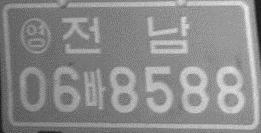0: (18, 65, 47, 113)
5: (144, 65, 174, 114)
6: (51, 65, 81, 113)
8: (108, 64, 140, 114), (178, 65, 209, 115), (214, 65, 245, 114)
바: (83, 67, 106, 111)
영: (18, 17, 52, 55)
전남_D: (60, 14, 191, 56)
